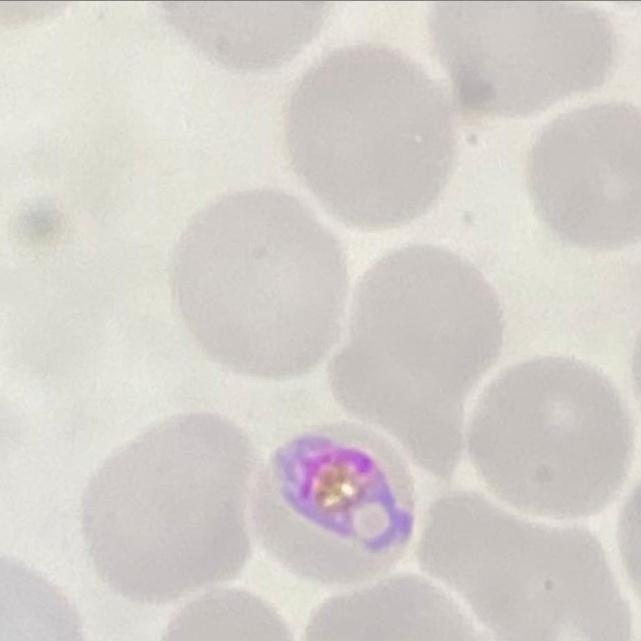Infected: (249, 419, 415, 587)
Uninfected: (329, 242, 498, 488), (411, 482, 634, 641), (167, 190, 350, 377), (89, 410, 270, 599), (290, 45, 457, 225), (471, 355, 632, 517)
